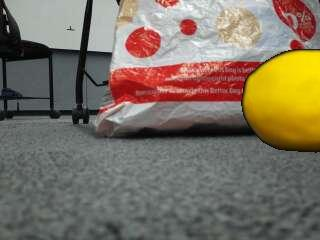lemon: (243, 48, 320, 150)
